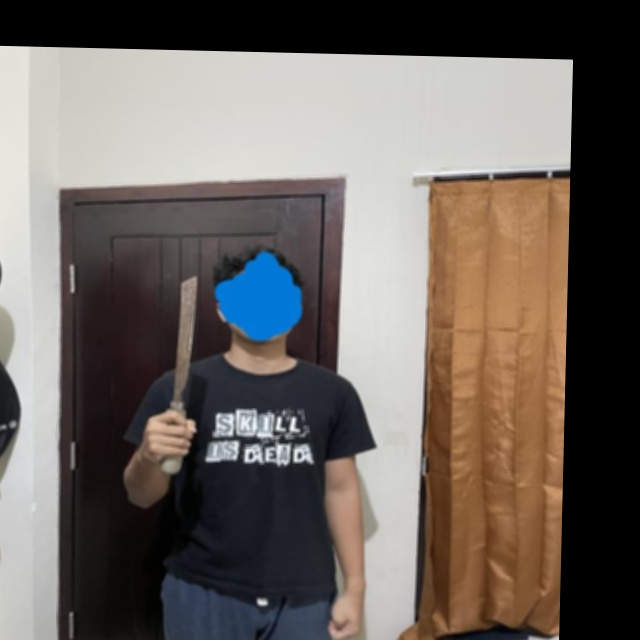Sharp-Object: (157, 274, 200, 476)
